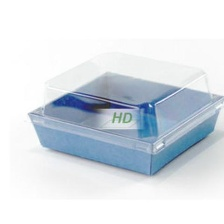plastic_box: (17, 43, 224, 181)
